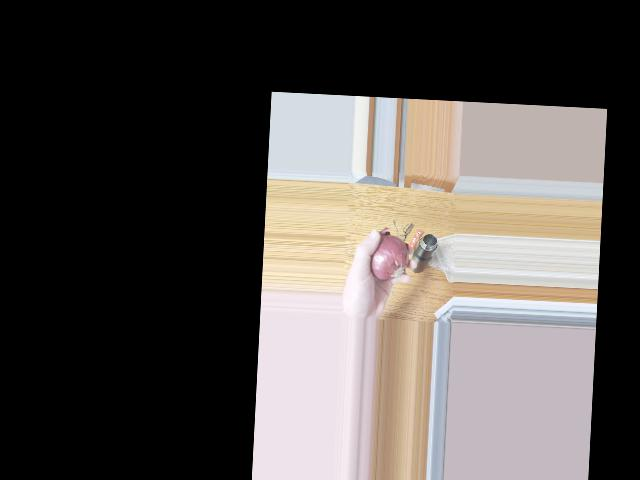onion: (364, 238, 403, 278)
